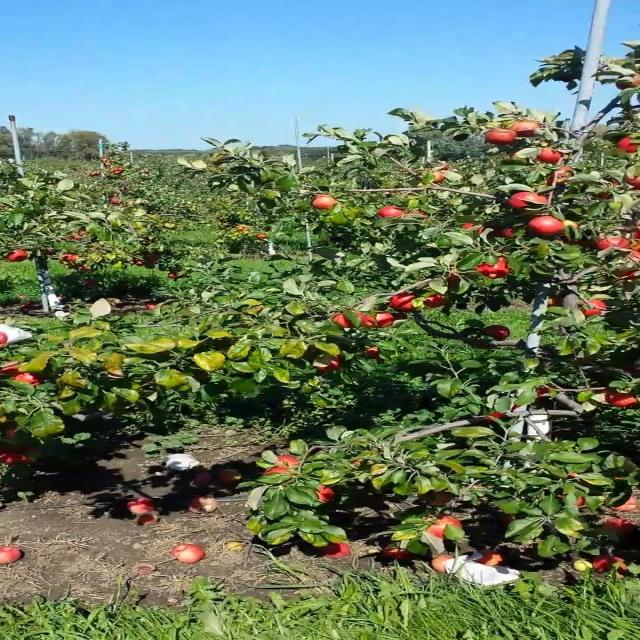apple: (476, 256, 512, 280), (511, 192, 553, 212), (426, 520, 464, 541), (604, 388, 639, 409), (6, 448, 43, 467), (483, 128, 519, 147), (532, 216, 564, 237), (511, 120, 546, 139), (611, 492, 639, 513), (419, 492, 455, 508), (390, 292, 418, 312), (319, 544, 354, 560), (596, 236, 631, 252), (554, 492, 588, 508), (333, 312, 364, 329), (604, 520, 635, 535), (13, 372, 43, 387), (582, 300, 610, 316), (540, 148, 567, 164), (369, 312, 396, 328), (312, 196, 340, 211), (554, 168, 578, 185), (596, 184, 620, 201), (561, 224, 585, 240), (483, 328, 512, 341), (447, 272, 473, 286), (618, 136, 639, 153), (376, 208, 405, 220), (625, 220, 639, 243), (618, 268, 639, 283), (319, 488, 338, 504), (618, 76, 638, 91), (426, 296, 450, 308), (319, 360, 343, 372), (276, 456, 300, 468), (468, 340, 494, 351), (625, 172, 639, 192), (362, 348, 384, 360), (532, 388, 556, 399), (426, 172, 448, 184), (497, 228, 519, 239), (6, 252, 28, 263), (6, 424, 21, 440), (547, 296, 567, 308), (404, 212, 430, 221), (6, 364, 23, 376), (625, 364, 639, 378), (468, 224, 485, 235), (433, 172, 448, 184), (269, 468, 292, 475)
